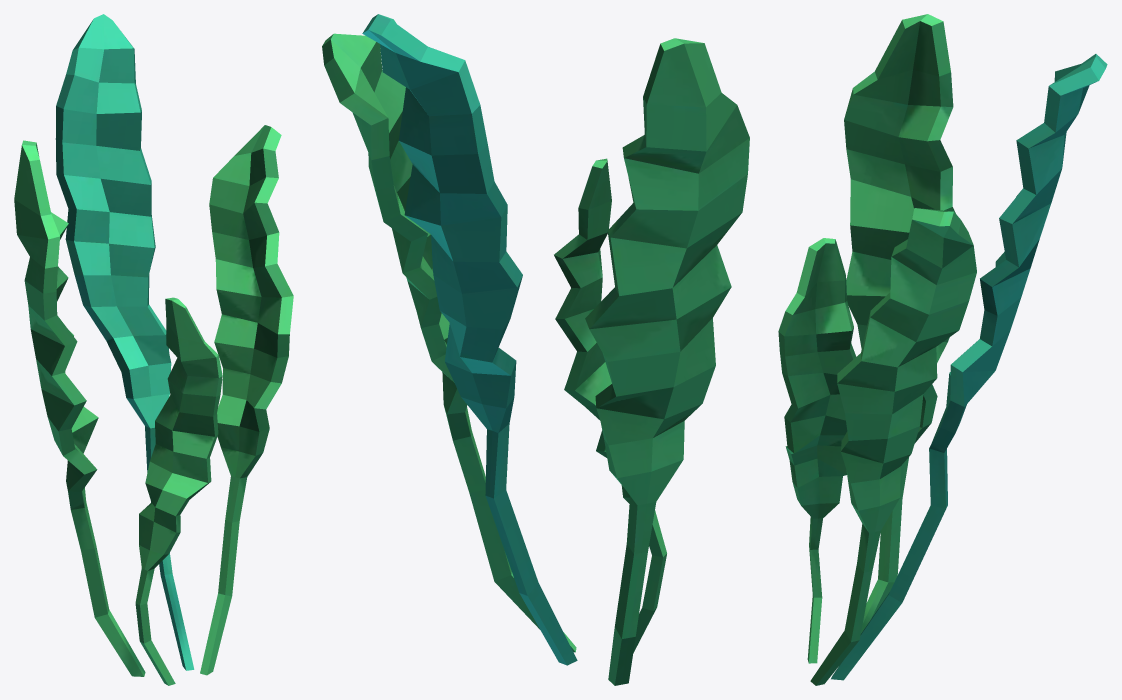
Rendered from kelp.glb.
3 views of the same model, side by side, from view 1: azimuth 30°, elevation 25°; view 2: azimuth 150°, elevation 25°; view 3: azimuth 270°, elevation 25° (orthographic). The views are drawn at different scales.
Parts seen in each view (by area): view 1: kelp; view 2: kelp; view 3: kelp.
Part boxes in pixels (bbox=[...]): kelp: bbox=[14, 14, 293, 685]; kelp: bbox=[322, 14, 749, 685]; kelp: bbox=[778, 14, 1107, 685].
Size of the model in its own units: 1.19 by 2.3 by 1.08.
1 material, 1 textured.
